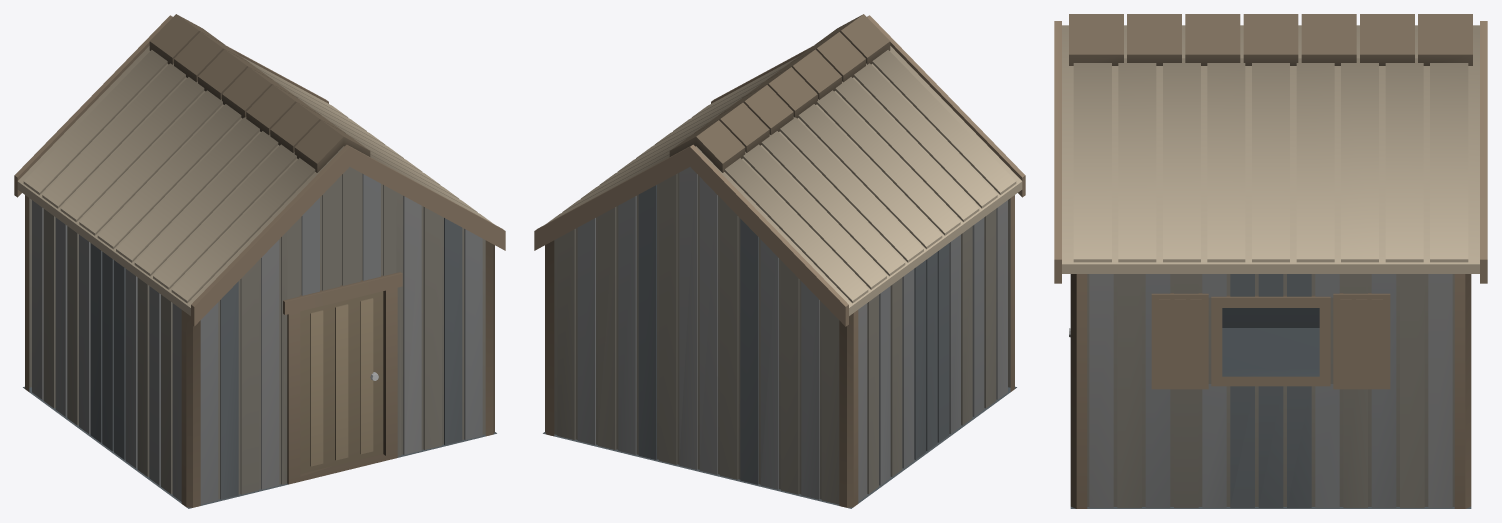
File: shed.glb
The picture shows the model from 3 angles, left to right: view 1: azimuth 30°, elevation 25°; view 2: azimuth 150°, elevation 25°; view 3: azimuth 270°, elevation 25°; orthographic projection. The views are drawn at different scales.
Parts seen in each view (by area): view 1: shed; view 2: shed; view 3: shed.
Part boxes in pixels (x1=…): shed: x1=14, y1=14, x2=505, y2=508; shed: x1=534, y1=14, x2=1025, y2=508; shed: x1=1054, y1=14, x2=1487, y2=508.
Size of the model in its own units: 3 by 3.09 by 3.
